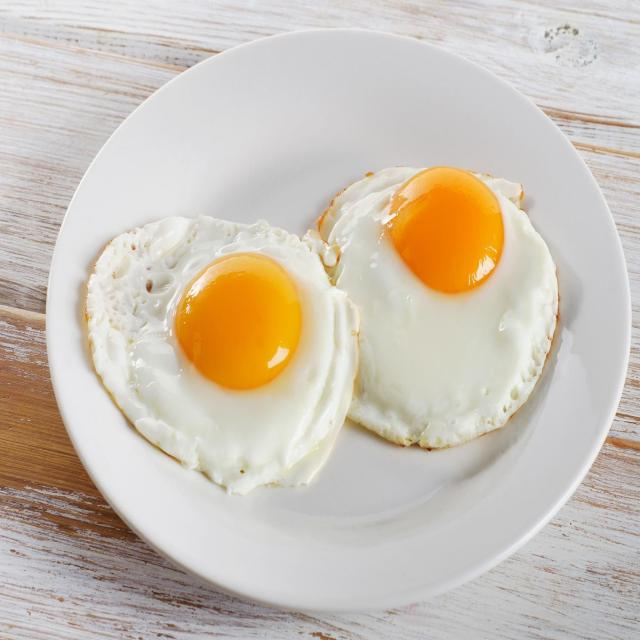huevos: (82, 206, 366, 511), (304, 157, 570, 457)
